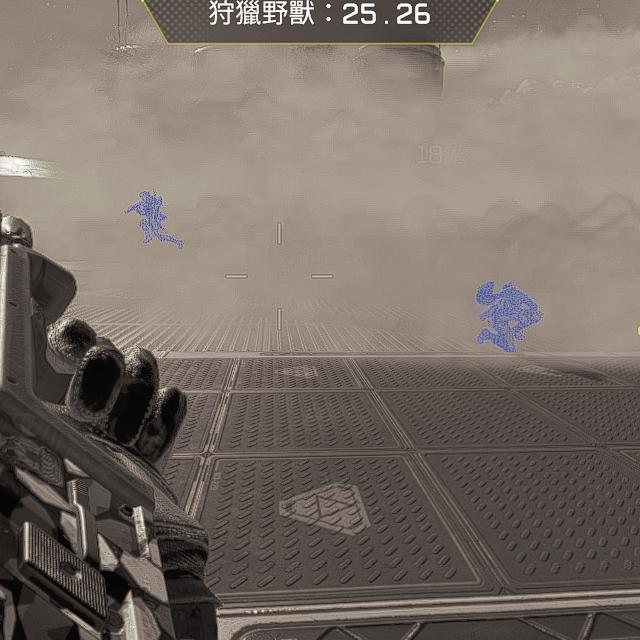avatar: (472, 278, 545, 357), (136, 188, 168, 245)
